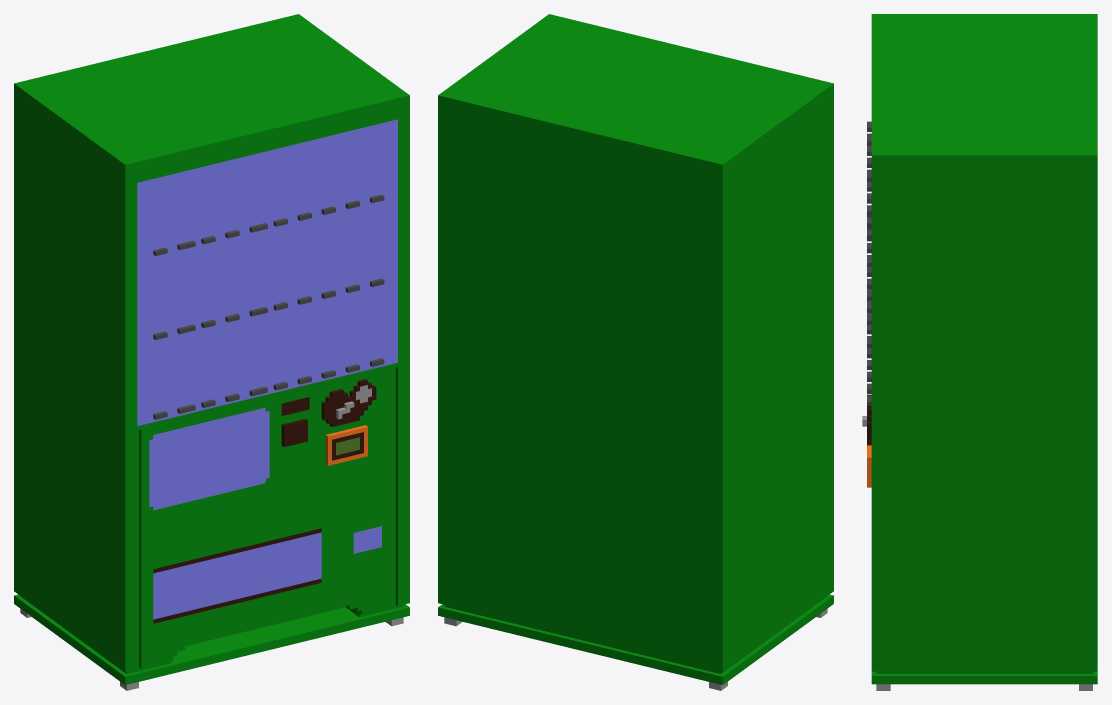
The model's file is Vending machine1-2.fbx.
The picture shows the model from 3 angles, left to right: view 1: azimuth 30°, elevation 25°; view 2: azimuth 150°, elevation 25°; view 3: azimuth 270°, elevation 25°; orthographic projection.
Parts seen in each view (by area): view 1: Vending machine1-2.001, Vending machine1-2.002, Vending machine1-2.003, Vending machine1-2.004, Vending machine1-2; view 2: Vending machine1-2.001; view 3: Vending machine1-2.001.
Boxes of the visible parts, bbox=[...] form: Vending machine1-2.001: bbox=[14, 14, 409, 690]; Vending machine1-2.002: bbox=[137, 119, 397, 426]; Vending machine1-2.003: bbox=[149, 407, 269, 510]; Vending machine1-2.004: bbox=[153, 532, 321, 619]; Vending machine1-2: bbox=[353, 526, 381, 553]; Vending machine1-2.001: bbox=[438, 14, 833, 690]; Vending machine1-2.001: bbox=[862, 14, 1097, 690].
Size of the model in its own units: 710 by 1260 by 500.
